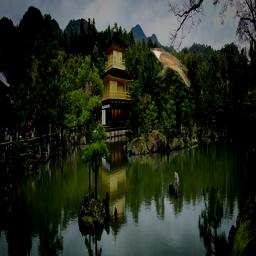Cuckoo: (150, 48, 190, 87)
